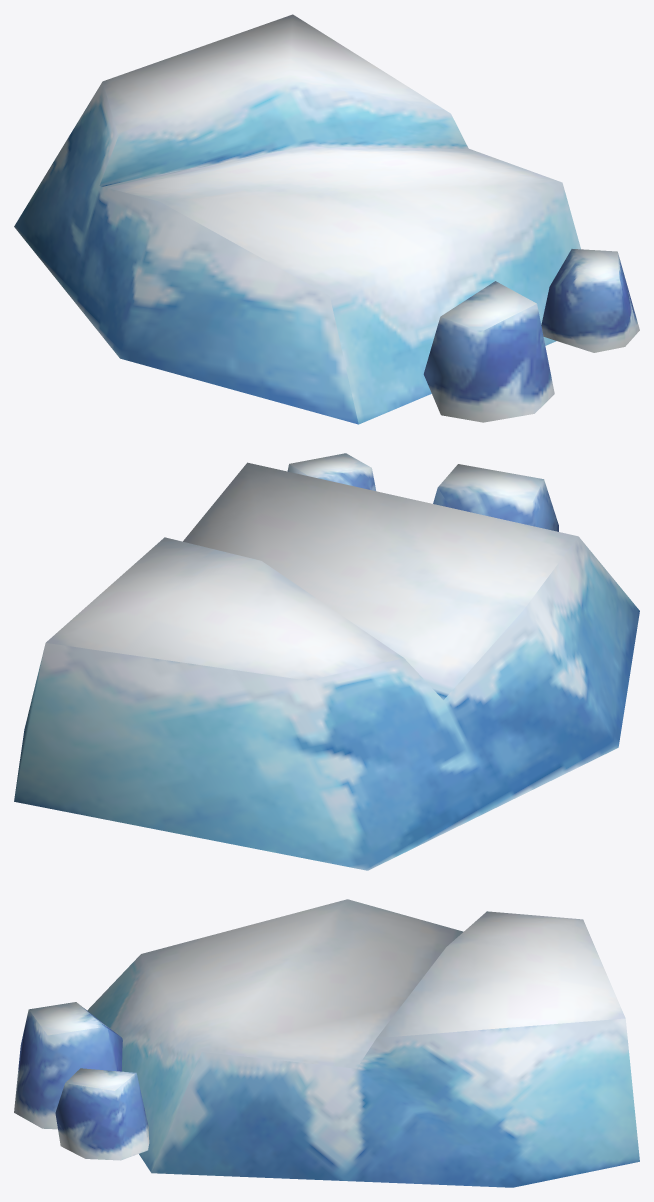
The model's file is SM_stoneD_06.fbx.
The picture shows the model from 3 angles, top to bottom: view 1: azimuth 30°, elevation 25°; view 2: azimuth 150°, elevation 25°; view 3: azimuth 270°, elevation 25°; orthographic projection. The views are drawn at different scales.
Parts seen in each view (by area): view 1: SM_stoneD_06; view 2: SM_stoneD_06; view 3: SM_stoneD_06.
Part boxes in pixels (box(x1,y1,x2,y2)): SM_stoneD_06: box(14, 14, 639, 424); SM_stoneD_06: box(14, 453, 639, 870); SM_stoneD_06: box(14, 899, 639, 1187).
Bounding box in the file's own units: 2.44 × 0.9391 × 3.33.
